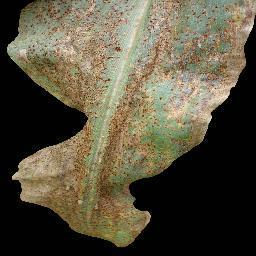Corn_Common_Rust: (1, 0, 256, 250)
